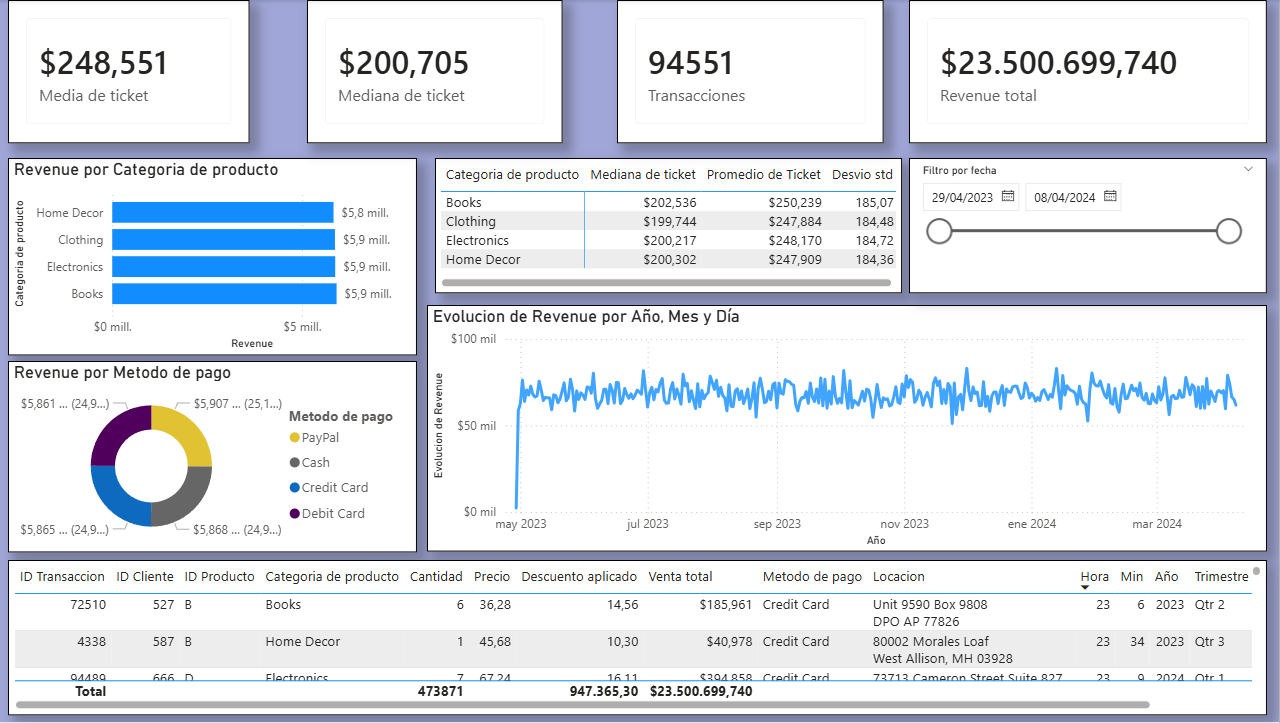

Layout of this report page (visuals, bound fields, positions):
{"tool":"powerbi","page":{"name":"KPIs Ventas","canvas":[1280,720],"ordinal":0},"visuals":[{"type":"pivotTable","fields":{"Values":["Median(dw fact_transactions.Total_amount)","select","select1","Avg(dw fact_transactions.Total_amount)1","dw fact_transactions.Desvio std"],"Rows":["dw dim_product.Product_category"]},"box":[438,157.6,465.9,134.7],"z":0},{"type":"clusteredBarChart","fields":{"Category":["dw dim_product.Product_category"],"Y":["Sum(dw fact_transactions.Total_amount)"]},"box":[12,157.6,408,196.5],"z":1000},{"type":"donutChart","fields":{"Category":["dw dim_payment.Payment_method"],"Y":["Sum(dw fact_transactions.Total_amount)"]},"box":[12,360.2,408,190.6],"z":2000},{"type":"cardVisual","fields":{"Data":["Sum(dw fact_transactions.Total_amount)"]},"box":[910.9,0,357.2,142.7],"z":3000},{"type":"cardVisual","fields":{"Data":["Median(dw fact_transactions.Total_amount)"]},"box":[310.3,0,255.4,142.7],"z":4000},{"type":"cardVisual","fields":{"Data":["Count(dw fact_transactions.Transaction_id)"]},"box":[619.5,0,266.4,142.7],"z":5000},{"type":"lineChart","fields":{"Y":["Sum(dw fact_transactions.Total_amount)"],"Category":["dw fact_transactions.Transaction_date.Variación.Jerarquía de fechas.Año","dw fact_transactions.Transaction_date.Variación.Jerarquía de fechas.Mes","dw fact_transactions.Transaction_date.Variación.Jerarquía de fechas.Día"]},"box":[430,304.3,838,246.4],"z":6000},{"type":"tableEx","fields":{"Values":["dw fact_transactions.Transaction_id","dw fact_transactions.Customer_id","dw dim_product.Product_id","dw dim_product.Product_category","Sum(dw fact_transactions.Quantity)","dw fact_transactions.Price","Sum(dw fact_transactions.Discount_applied)","Sum(dw fact_transactions.Total_amount)","dw dim_payment.Payment_method","dw dim_store.Store_location","dw dim_transactionTime.Hour","dw dim_transactionTime.Min"]},"box":[12,558.7,1256.1,154.6],"z":7000},{"type":"cardVisual","fields":{"Data":["Avg(dw fact_transactions.Total_amount)"]},"box":[12,0,241.4,142.7],"z":8000},{"type":"slicer","fields":{"Values":["dw fact_transactions.Transaction_date"]},"box":[910.9,157.6,357.2,134.7],"z":9000}]}

Visuals, with their boxes in screenshot pixels (x1, y1, x2, y2), scaled from the page's 1280x720 canvas onto the 1280x723 screenshot:
pivotTable - Median(dw fact_transactions.Total_amount) x select: region(438, 158, 904, 294)
clusteredBarChart - dw dim_product.Product_category x Sum(dw fact_transactions.Total_amount): region(12, 158, 420, 356)
donutChart - dw dim_payment.Payment_method x Sum(dw fact_transactions.Total_amount): region(12, 362, 420, 553)
cardVisual - Sum(dw fact_transactions.Total_amount): region(911, 0, 1268, 143)
cardVisual - Median(dw fact_transactions.Total_amount): region(310, 0, 566, 143)
cardVisual - Count(dw fact_transactions.Transaction_id): region(620, 0, 886, 143)
lineChart - Sum(dw fact_transactions.Total_amount) x dw fact_transactions.Transaction_date.Variación.Jerarquía de fechas.Año: region(430, 306, 1268, 553)
tableEx - dw fact_transactions.Transaction_id x dw fact_transactions.Customer_id: region(12, 561, 1268, 716)
cardVisual - Avg(dw fact_transactions.Total_amount): region(12, 0, 253, 143)
slicer - dw fact_transactions.Transaction_date: region(911, 158, 1268, 294)
